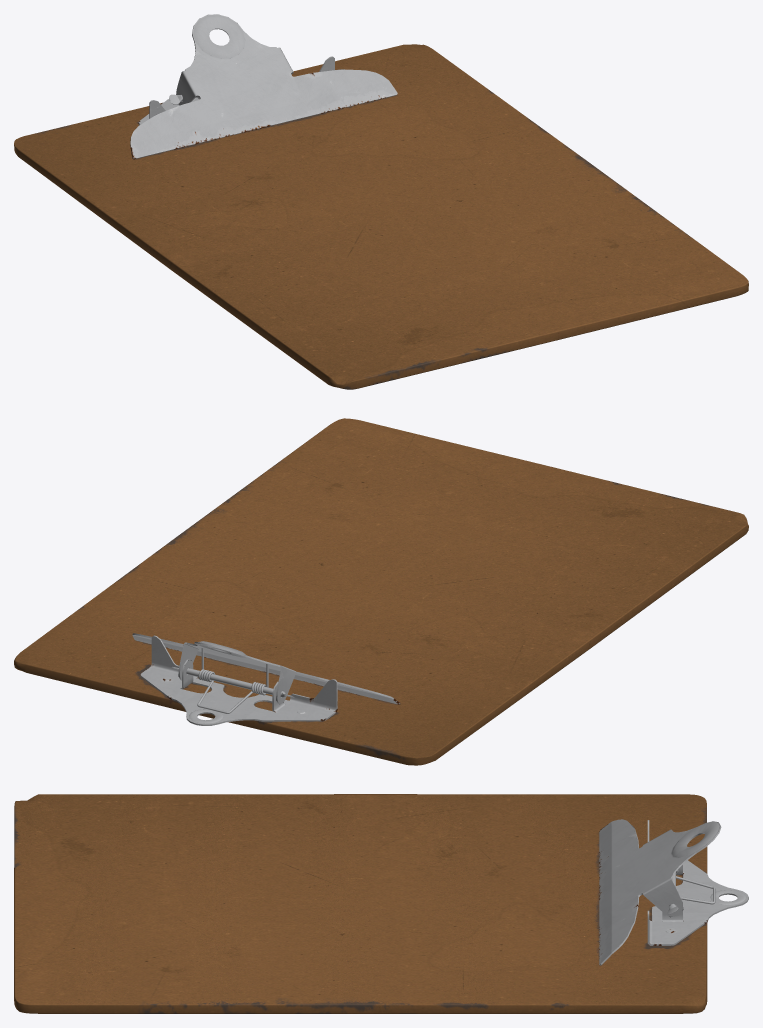
File: clipboard.gltf
3 renders of one model, top to bottom at view 1: azimuth 30°, elevation 25°; view 2: azimuth 150°, elevation 25°; view 3: azimuth 270°, elevation 25°, orthographic. The views are drawn at different scales.
Visible parts, largest first — view 1: clipboard; view 2: clipboard; view 3: clipboard.
Boxes of the visible parts, x1=… form: clipboard: x1=14, y1=14, x2=748, y2=389; clipboard: x1=14, y1=418, x2=748, y2=765; clipboard: x1=14, y1=794, x2=748, y2=1013.
Bounding box in the file's own units: 0.2286 × 0.042 × 0.3366.
1 material, 1 textured.
